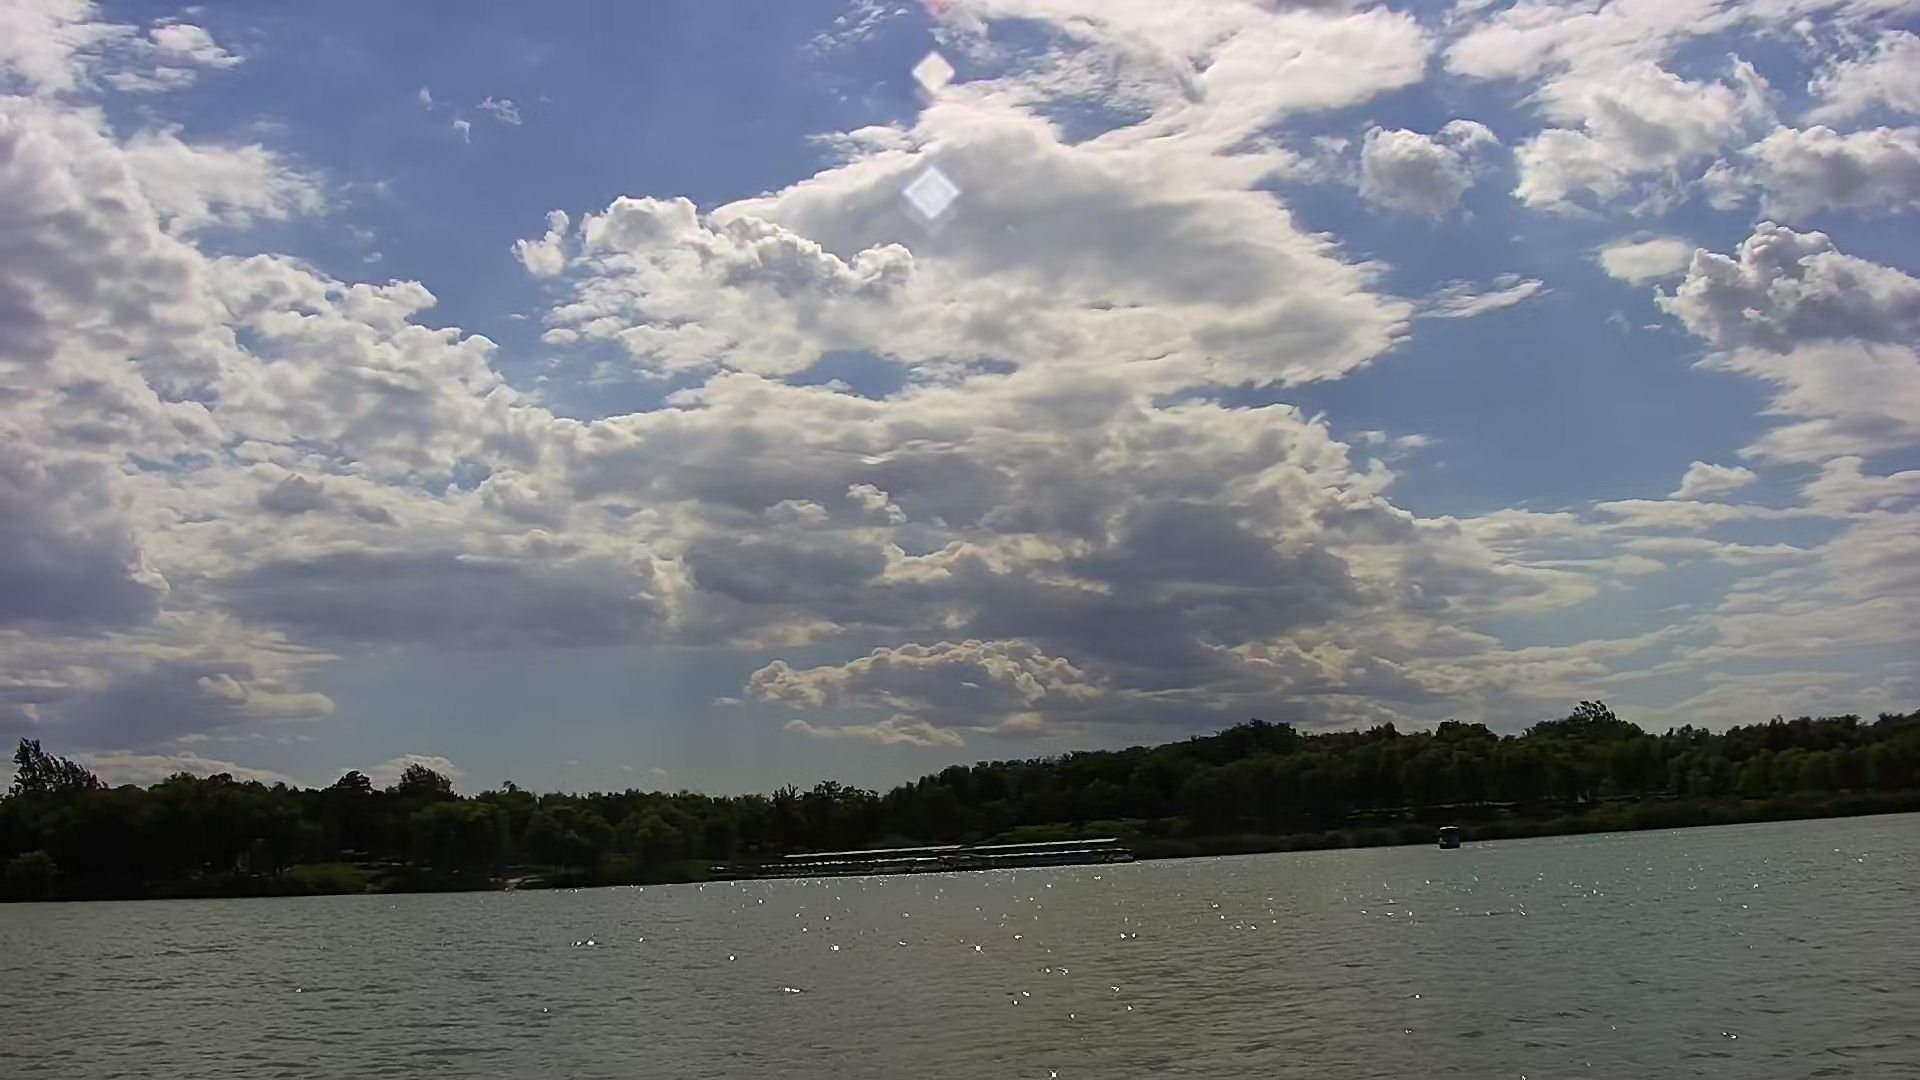boat: (1433, 823, 1469, 852)
harbor: (771, 832, 1131, 880)
